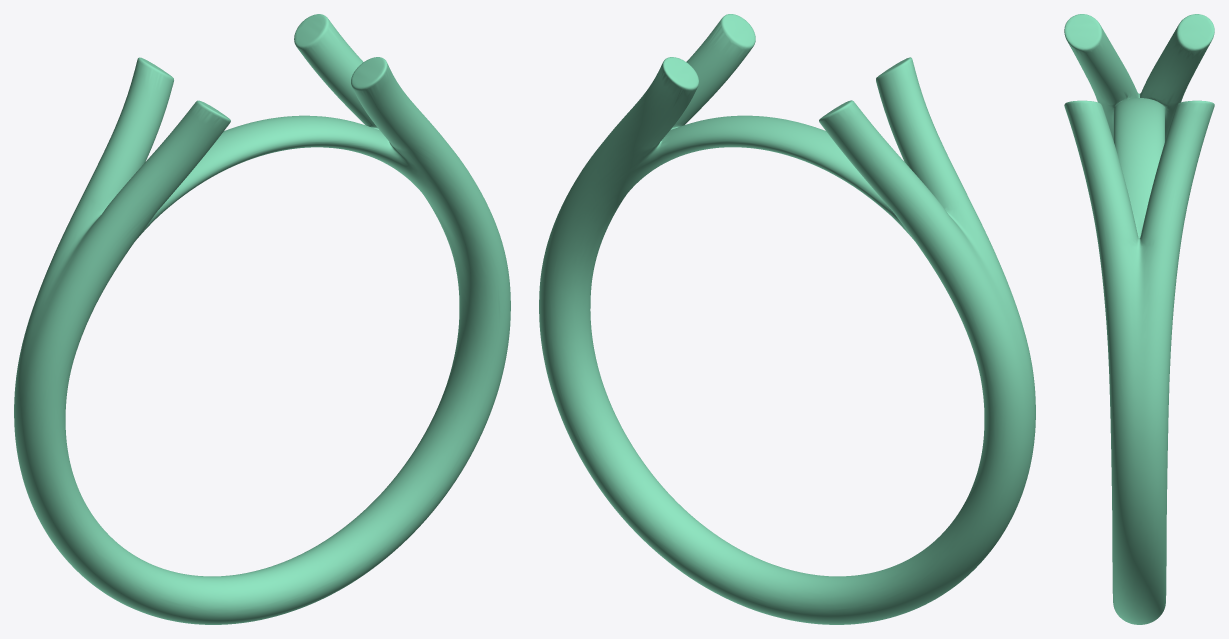
3 views of the same model, side by side, from view 1: azimuth 30°, elevation 25°; view 2: azimuth 150°, elevation 25°; view 3: azimuth 270°, elevation 25° (orthographic). The views are drawn at different scales.
Visible parts, largest first — view 1: Metal02; view 2: Metal02; view 3: Metal02.
Part boxes in pixels (x1,y1,x2,y2): Metal02: (14, 14, 510, 624); Metal02: (539, 14, 1035, 624); Metal02: (1064, 14, 1214, 624).
Size of the model in its own units: 20.86 by 22.78 by 5.73.
